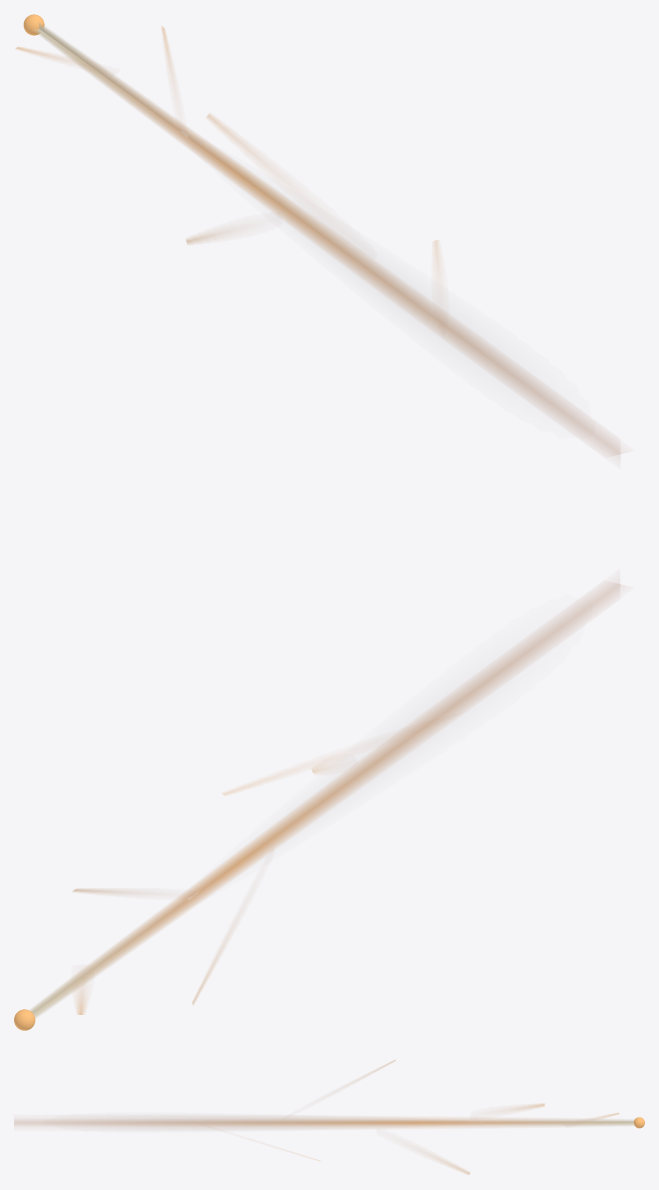
Rendered from vfx_tracer_incendiary.glb.
The picture shows the model from 3 angles, top to bottom: view 1: azimuth 30°, elevation 25°; view 2: azimuth 150°, elevation 25°; view 3: azimuth 270°, elevation 25°; orthographic projection. The views are drawn at different scales.
Visible parts, largest first — view 1: vfx_tracer_incendiary_streak_b, vfx_tracer_incendiary_streak_a; view 2: vfx_tracer_incendiary_streak_b, vfx_tracer_incendiary_streak_a; view 3: vfx_tracer_incendiary_streak_b, vfx_tracer_incendiary_streak_a.
Boxes of the visible parts, left/top/right/bottom form: vfx_tracer_incendiary_streak_b: left=39, top=23, right=538, bottom=393; vfx_tracer_incendiary_streak_a: left=34, top=27, right=536, bottom=393; vfx_tracer_incendiary_streak_b: left=30, top=645, right=535, bottom=1017; vfx_tracer_incendiary_streak_a: left=30, top=647, right=534, bottom=1017; vfx_tracer_incendiary_streak_b: left=144, top=1118, right=634, bottom=1127; vfx_tracer_incendiary_streak_a: left=136, top=1121, right=633, bottom=1124.
Size of the model in its own units: 0.1615 by 0.1849 by 1.01.
